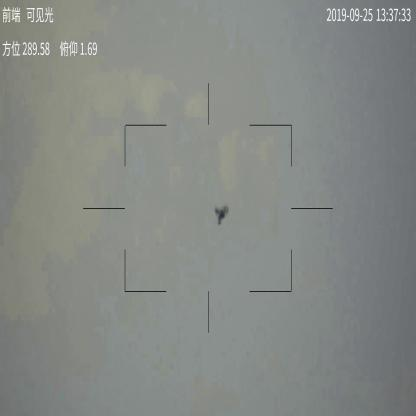uav: (214, 206, 232, 228)
